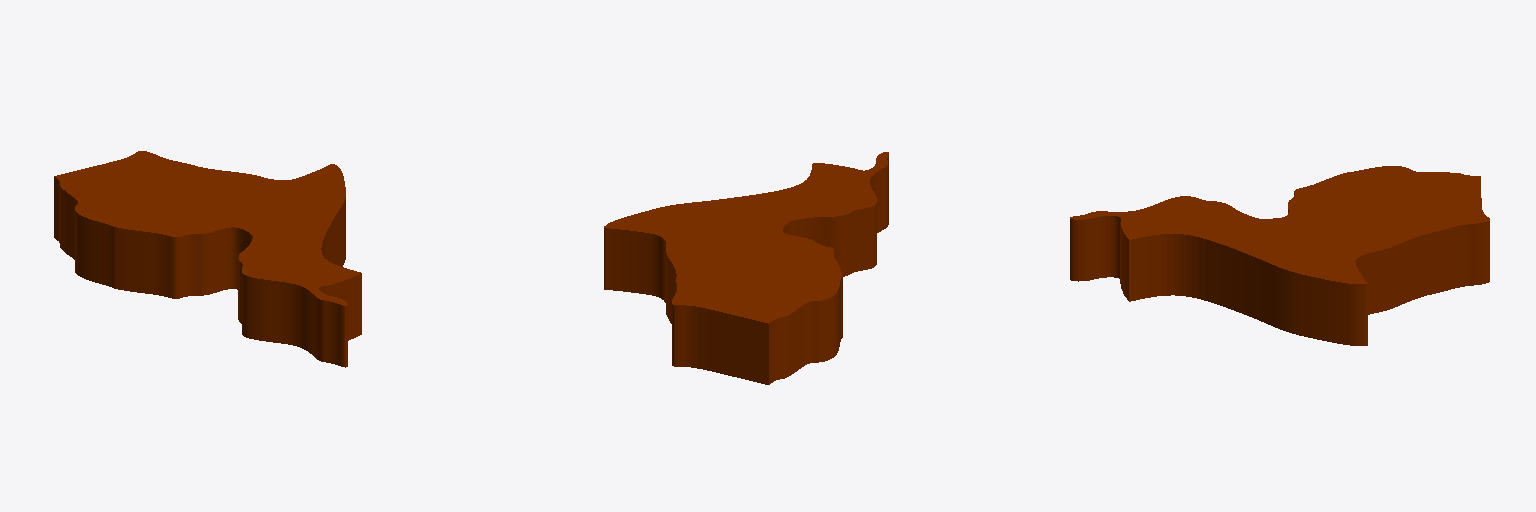
The model's file is Africa_02.obj.
3 views of the same model, side by side, from view 1: azimuth 30°, elevation 25°; view 2: azimuth 150°, elevation 25°; view 3: azimuth 270°, elevation 25° (orthographic).
Parts seen in each view (by area): view 1: Africa_02_path4222; view 2: Africa_02_path4222; view 3: Africa_02_path4222.
Part boxes in pixels (x1,y1,x2,y2): Africa_02_path4222: (54,151,361,367); Africa_02_path4222: (604,152,888,384); Africa_02_path4222: (1070,166,1489,345).
Size of the model in its own units: 0.4122 by 0.1 by 0.6176.